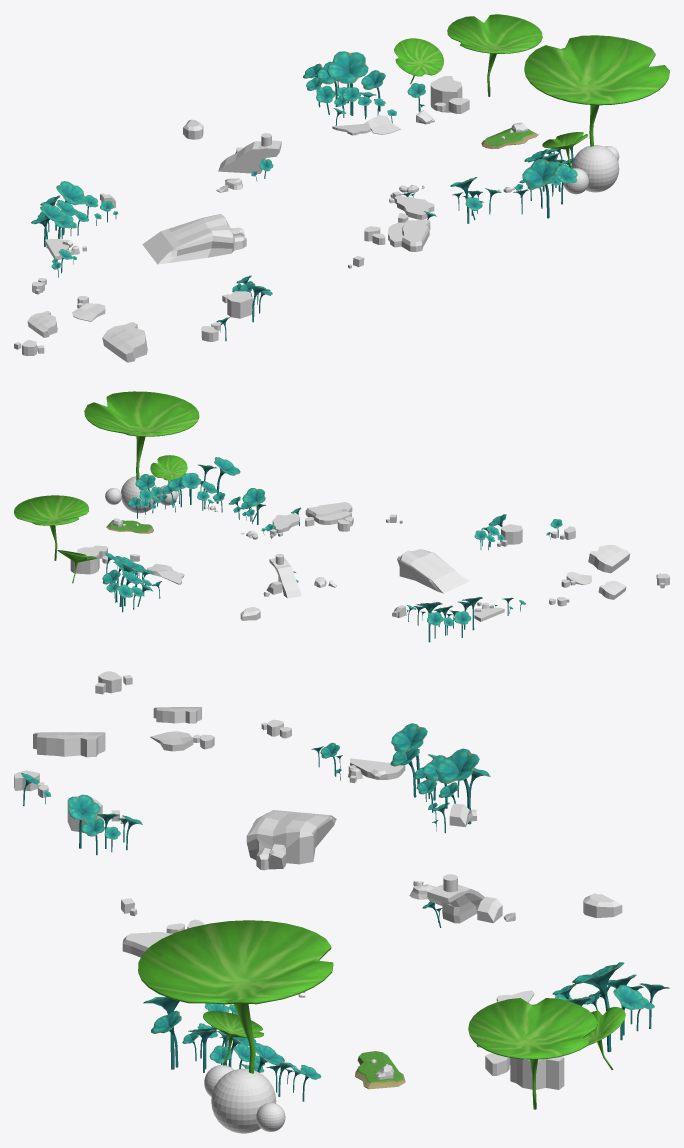
The model's file is TexturedEnviromentV1.fbx.
The picture shows the model from 3 angles, top to bottom: view 1: azimuth 30°, elevation 25°; view 2: azimuth 150°, elevation 25°; view 3: azimuth 270°, elevation 25°; orthographic projection. The views are drawn at different scales.
Visible parts, largest first — view 1: Cone.004, Cube.062, Cone.002, Sphere, Cone.001, Cube.040, Cube.012, Cube.028, Cylinder.002, Cylinder.022, Cube.009, Cube.056 (+6 smaller); view 2: Cone.004, Cone.002, Cube.062, Cube.040, Cube.028, Cone.005, Cube.012, Sphere, Cube.009, Cube.010, Cube.056, Cube.023 (+1 smaller); view 3: Cone.004, Cone.002, Cube.062, Sphere, Cube.040, Cube.009, Cube.012, Cube.010, Cylinder.054, Cone.005, Cone.001, Cylinder.062 (+6 smaller).
Part boxes in pixels (bbox=[...]): Cone.004: bbox=[524, 35, 669, 146]; Cube.062: bbox=[142, 214, 246, 264]; Cone.002: bbox=[447, 14, 542, 96]; Sphere: bbox=[572, 145, 619, 192]; Cone.001: bbox=[394, 38, 443, 84]; Cube.040: bbox=[102, 322, 147, 362]; Cube.012: bbox=[218, 140, 281, 173]; Cube.028: bbox=[388, 219, 430, 251]; Cylinder.002: bbox=[327, 51, 368, 115]; Cylinder.022: bbox=[522, 159, 558, 218]; Cube.009: bbox=[430, 76, 462, 112]; Cube.056: bbox=[332, 115, 400, 135]; Cone.004: bbox=[84, 391, 199, 480]; Cone.002: bbox=[14, 495, 88, 560]; Cube.062: bbox=[397, 549, 469, 593]; Cube.040: bbox=[588, 545, 630, 573]; Cube.028: bbox=[305, 502, 352, 524]; Cone.005: bbox=[150, 455, 187, 482]; Cube.012: bbox=[269, 557, 301, 598]; Sphere: bbox=[121, 475, 156, 513]; Cube.009: bbox=[70, 546, 99, 574]; Cube.010: bbox=[106, 520, 153, 533]; Cube.056: bbox=[147, 564, 184, 584]; Cube.023: bbox=[272, 514, 299, 533]; Cone.004: bbox=[138, 920, 333, 1073]; Cone.002: bbox=[468, 998, 597, 1109]; Cube.062: bbox=[246, 810, 336, 870]; Sphere: bbox=[211, 1068, 276, 1133]; Cube.040: bbox=[33, 732, 105, 757]; Cube.009: bbox=[510, 1056, 564, 1089]; Cube.012: bbox=[427, 884, 484, 923]; Cube.010: bbox=[355, 1051, 405, 1089]; Cylinder.054: bbox=[436, 748, 479, 824]; Cone.005: bbox=[203, 1011, 263, 1065]; Cone.001: bbox=[584, 1007, 625, 1069]; Cylinder.062: bbox=[391, 723, 427, 784].
Size of the model in its own units: 15615 by 2756 by 9481.
